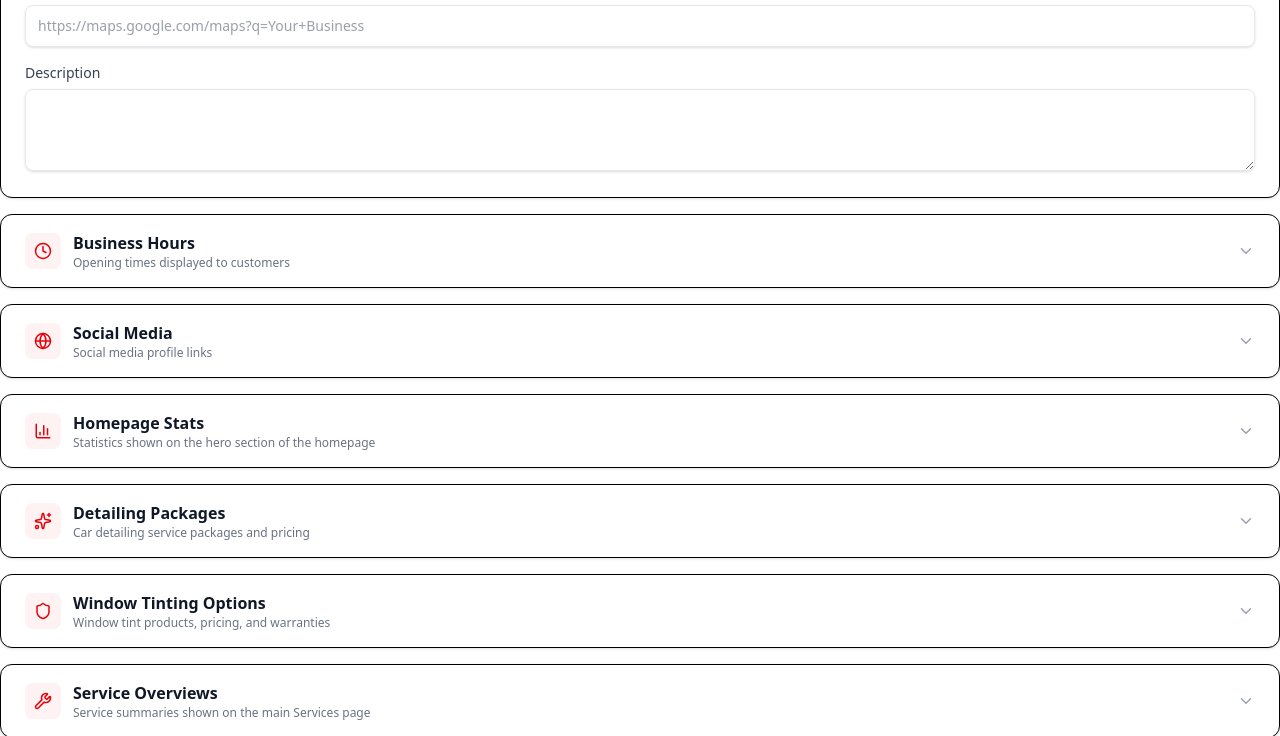
BusinessInfoForm Component › Detailing Packages sub-editor › renders existing packages with their Name field populated
(page scrolled)
Click the heading "Detailing Packages": x=149, y=513 [73,502,225,524]
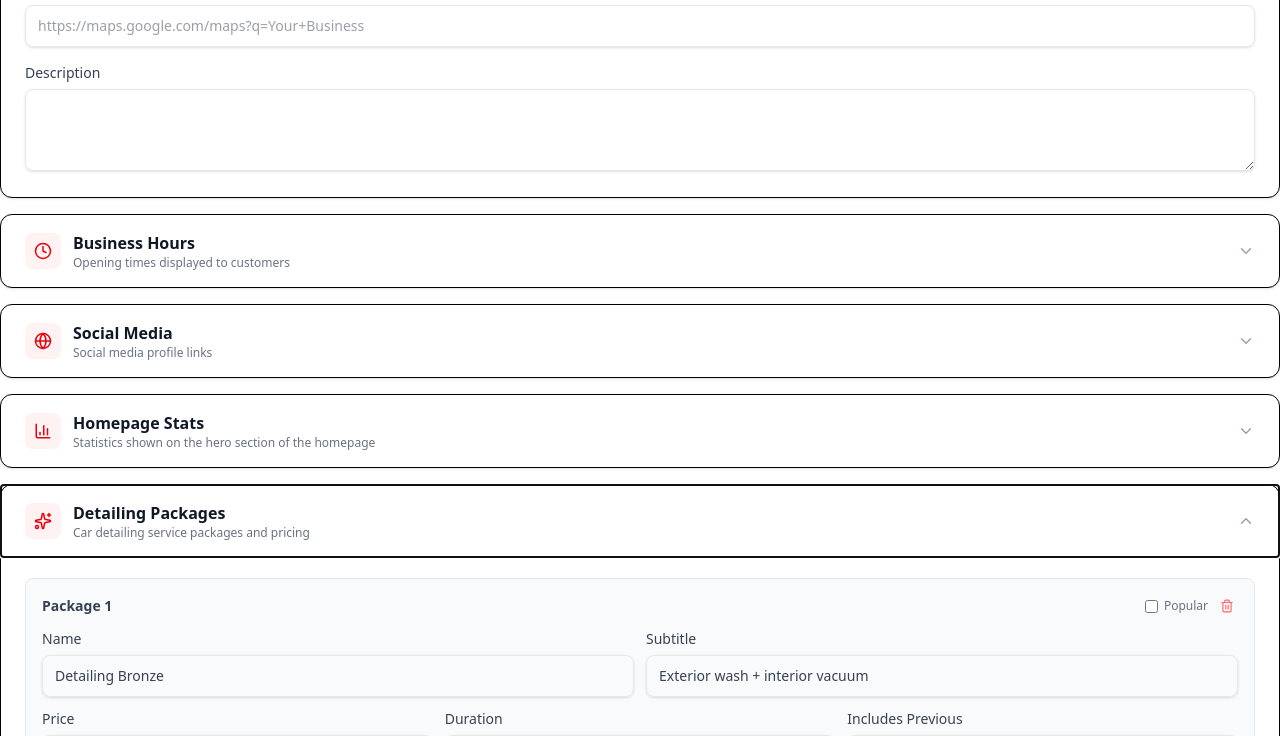
Check: the heading "Package 1" is shown, box [42,596,112,616]
Check: the field showing "Detailing Bronze" is shown, box [42,655,634,697]
